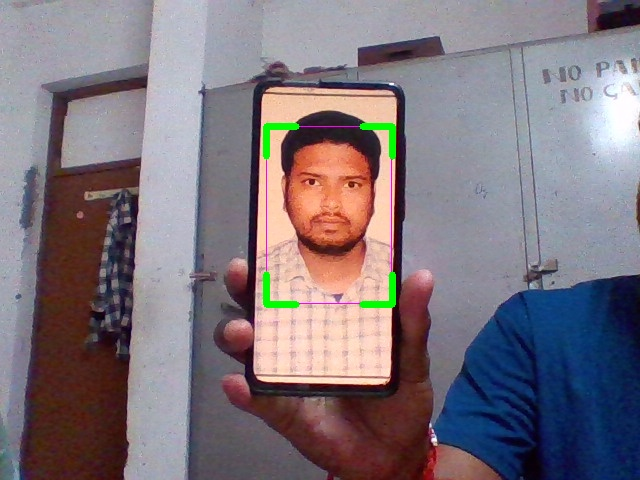fake: (266, 126, 392, 304)
